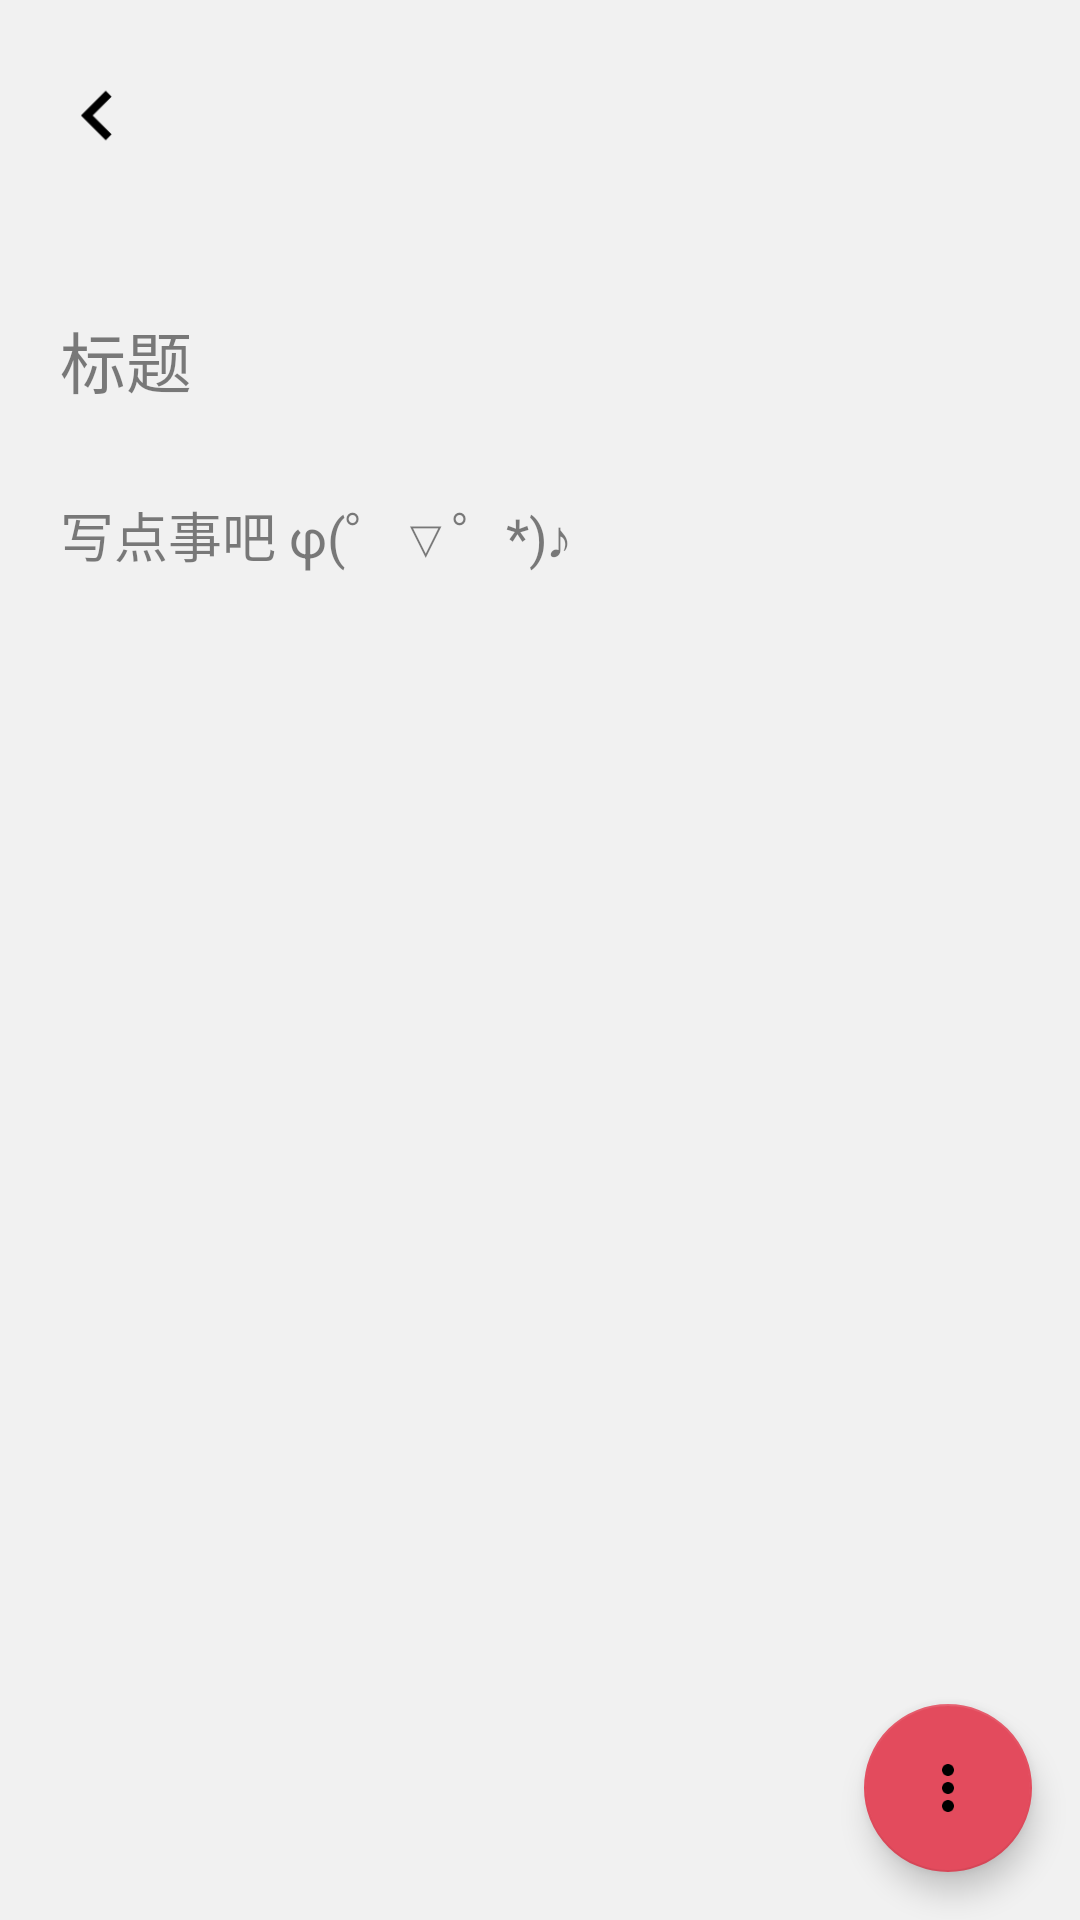

Where to tap for icons on this 1080 × 1920 app screen, as [x,y]:
back: [96,115]
menu: [948,1788]
